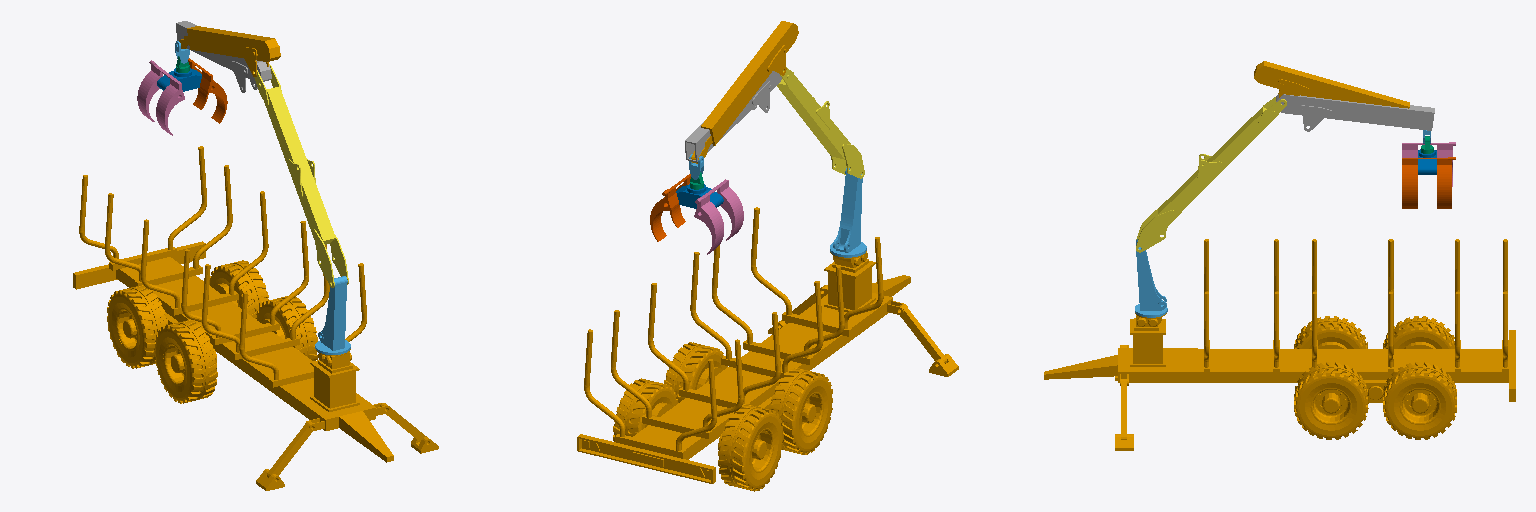
The robot description file, URDF, robot "Forwarder":
<?xml version="1.0" ?>
<robot name="Forwarder">

<material name="silver">
  <color rgba="0.700 0.700 0.700 1.000"/>
</material>

<link name="base_link">
  <inertial>
    <origin xyz="-0.003908224452763367 0.9506037251304481 0.7021763882249904" rpy="0 0 0"/>
    <mass value="25822.65720552091"/>
    <inertia ixx="68520.3010478053" iyy="14442.085932296157" izz="76765.07340755759" ixy="16.407438650892203" iyz="2841.6614017961874" ixz="-4.022357417862196"/>
  </inertial>
  <visual>
    <origin xyz="0 0 0" rpy="0 0 0"/>
    <geometry>
      <mesh filename="meshes/base_link.stl" scale="0.001 0.001 0.001"/>
    </geometry>
    <material name="silver"/>
    <material/>
  </visual>
  <collision concave='no'>
    <origin xyz="0 0 0" rpy="0 0 0"/>
    <geometry>
      <mesh filename="meshes/base_link_collision_vhacd.obj" scale="0.001 0.001 0.001"/>
    </geometry>
  </collision>
</link>

<link name="cranePillar1">
  <inertial>
    <origin xyz="3.497467832070701e-07 -0.0698455421799471 0.40873602648964047" rpy="0 0 0"/>
    <mass value="460.1534968092927"/>
    <inertia ixx="59.03278028466866" iyy="56.713124294482895" izz="7.345476497081563" ixy="-1.4077627952246985e-13" iyz="8.862009230487274" ixz="8.895106873296754e-13"/>
  </inertial>
  <visual>
    <origin xyz="0.002853 1.980877 -1.765904" rpy="0 0 0"/>
    <geometry>
      <mesh filename="meshes/cranePillar1.stl" scale="0.001 0.001 0.001"/>
    </geometry>
    <material name="silver"/>
    <material/>
  </visual>
  <collision>
    <origin xyz="0.002853 1.980877 -1.765904" rpy="0 0 0"/>
    <geometry>
      <mesh filename="meshes/cranePillar1.stl" scale="0.001 0.001 0.001"/>
    </geometry>
  </collision>
</link>

<link name="grappleHook1">
  <inertial>
    <origin xyz="3.49746752300803e-07 -0.060077954564890845 -0.11011981671949034" rpy="0 0 0"/>
    <mass value="33.99158446471375"/>
    <inertia ixx="0.207250395142637" iyy="0.2222404776367739" izz="0.1330857120570954" ixy="-1.3933298959045715e-14" iyz="-0.016261710099911397" ixz="1.3322676295501878e-14"/>
  </inertial>
  <visual>
    <origin xyz="0.002853 -3.944112 -4.490445" rpy="0 0 0"/>
    <geometry>
      <mesh filename="meshes/grappleHook1.stl" scale="0.001 0.001 0.001"/>
    </geometry>
    <material name="silver"/>
    <material/>
  </visual>
  <collision>
    <origin xyz="0.002853 -3.944112 -4.490445" rpy="0 0 0"/>
    <geometry>
      <mesh filename="meshes/grappleHook1.stl" scale="0.001 0.001 0.001"/>
    </geometry>
  </collision>
</link>

<link name="craneArm1">
  <inertial>
    <origin xyz="0.1100003610841465 1.3042152418009825 1.076770916885395" rpy="0 0 0"/>
    <mass value="498.213131651919"/>
    <inertia ixx="384.1248311033414" iyy="150.28888523464684" izz="242.08512014030032" ixy="2.498294123132183e-06" iyz="-182.83786745271618" ixz="3.087384713218455e-06"/>
  </inertial>
  <visual>
    <origin xyz="0.112853 2.155476 -2.865968" rpy="0 0 0"/>
    <geometry>
      <mesh filename="meshes/craneArm1.stl" scale="0.001 0.001 0.001"/>
    </geometry>
    <material name="silver"/>
    <material/>
  </visual>
  <collision>
    <origin xyz="0.112853 2.155476 -2.865968" rpy="0 0 0"/>
    <geometry>
      <mesh filename="meshes/craneArm1.stl" scale="0.001 0.001 0.001"/>
    </geometry>
  </collision>
</link>

<link name="grappleBody1">
  <inertial>
    <origin xyz="-0.004618843729018784 -0.02481161390733444 -0.14041374993199973" rpy="0 0 0"/>
    <mass value="65.77548879718992"/>
    <inertia ixx="1.4492199693208931" iyy="3.4056982852409874" izz="3.8805642743152475" ixy="-0.0016485057766530975" iyz="0.08661492179317065" ixz="-0.009329223566808764"/>
  </inertial>
  <visual>
    <origin xyz="0.002853 -3.867311 -4.285686" rpy="0 0 0"/>
    <geometry>
      <mesh filename="meshes/grappleBody1.stl" scale="0.001 0.001 0.001"/>
    </geometry>
    <material name="silver"/>
    <material/>
  </visual>
  <collision>
    <origin xyz="0.002853 -3.867311 -4.285686" rpy="0 0 0"/>
    <geometry>
      <mesh filename="meshes/grappleBody1.stl" scale="0.001 0.001 0.001"/>
    </geometry>
  </collision>
</link>

<link name="grappleL1">
  <inertial>
    <origin xyz="0.10267709197958164 -0.1612844268661484 -0.07174232510580492" rpy="0 0 0"/>
    <mass value="252.06590264464234"/>
    <inertia ixx="26.418413918632723" iyy="9.205817174658478" izz="21.667254974598563" ixy="0.6060925696314143" iyz="1.9775267486088524" ixz="2.832512755512937"/>
  </inertial>
  <visual>
    <origin xyz="-0.277147 -3.984785 -4.088466" rpy="0 0 0"/>
    <geometry>
      <mesh filename="meshes/grappleL1.stl" scale="0.001 0.001 0.001"/>
    </geometry>
    <material name="silver"/>
    <material/>
  </visual>
  <collision concave="no">
    <origin xyz="-0.277147 -3.984785 -4.088466" rpy="0 0 0"/>
    <geometry>
      <mesh filename="meshes/grappleL1.stl" scale="0.001 0.001 0.001"/>
    </geometry>
  </collision>
</link>

<link name="grappleR1">
  <inertial>
    <origin xyz="-0.1029958535597646 -0.1638516209519647 -0.08057415801397028" rpy="0 0 0"/>
    <mass value="307.2406805414771"/>
    <inertia ixx="34.492324947317684" iyy="12.852460841249922" izz="27.330293925175283" ixy="-0.7563014736331866" iyz="2.3652520205505425" ixz="-3.74754902752386"/>
  </inertial>
  <visual>
    <origin xyz="0.282853 -3.984785 -4.088466" rpy="0 0 0"/>
    <geometry>
      <mesh filename="meshes/grappleR1.stl" scale="0.001 0.001 0.001"/>
    </geometry>
    <material name="silver"/>
    <material/>
  </visual>
  <collision concave="no">
    <origin xyz="0.282853 -3.984785 -4.088466" rpy="0 0 0"/>
    <geometry>
      <mesh filename="meshes/grappleR1.stl" scale="0.001 0.001 0.001"/>
    </geometry>
  </collision>
</link>

<link name="extension_arm1">
  <inertial>
    <origin xyz="-0.10999965025326676 0.6868688916027177 0.24801104145967034" rpy="0 0 0"/>
    <mass value="385.82757219552406"/>
    <inertia ixx="204.13527677232196" iyy="10.295244215032653" izz="198.03227518544657" ixy="-2.0761170560490427e-13" iyz="22.072587976147133" ixz="7.105427357601002e-15"/>
  </inertial>
  <visual>
    <origin xyz="-0.107147 -0.491595 -4.956013" rpy="0 0 0"/>
    <geometry>
      <mesh filename="meshes/extension_arm1.stl" scale="0.001 0.001 0.001"/>
    </geometry>
    <material name="silver"/>
    <material/>
  </visual>
  <collision>
    <origin xyz="-0.107147 -0.491595 -4.956013" rpy="0 0 0"/>
    <geometry>
      <mesh filename="meshes/extension_arm1.stl" scale="0.001 0.001 0.001"/>
    </geometry>
  </collision>
</link>

<link name="extension1">
  <inertial>
    <origin xyz="0.03000035007224677 0.7468894249667883 0.13493574423119536" rpy="0 0 0"/>
    <mass value="250.5548388854696"/>
    <inertia ixx="104.64045007897676" iyy="5.1341466361909625" izz="100.75155381084801" ixy="1.295901874698302e-08" iyz="15.72724636338853" ixz="-2.5546986748281597e-09"/>
  </inertial>
  <visual>
    <origin xyz="0.032853 -2.031233 -4.858766" rpy="0 0 0"/>
    <geometry>
      <mesh filename="meshes/extension1.stl" scale="0.001 0.001 0.001"/>
    </geometry>
    <material name="silver"/>
    <material/>
  </visual>
  <collision>
    <origin xyz="0.032853 -2.031233 -4.858766" rpy="0 0 0"/>
    <geometry>
      <mesh filename="meshes/extension1.stl" scale="0.001 0.001 0.001"/>
    </geometry>
  </collision>
</link>

<link name="intermediateHookJnt1">
  <inertial>
    <origin xyz="0.06000034974674894 -0.021158436674920456 -0.11973704384593109" rpy="0 0 0"/>
    <mass value="19.458555791807512"/>
    <inertia ixx="0.18389551539803506" iyy="0.20588193950192135" izz="0.09684901559688797" ixy="-3.425038030968608e-14" iyz="-0.019887443594768683" ixz="-1.2823075934420558e-14"/>
  </inertial>
  <visual>
    <origin xyz="0.062853 -3.945173 -4.72632" rpy="0 0 0"/>
    <geometry>
      <mesh filename="meshes/intermediateHookJnt1.stl" scale="0.001 0.001 0.001"/>
    </geometry>
    <material name="silver"/>
    <material/>
  </visual>
  <collision>
    <origin xyz="0.062853 -3.945173 -4.72632" rpy="0 0 0"/>
    <geometry>
      <mesh filename="meshes/intermediateHookJnt1.stl" scale="0.001 0.001 0.001"/>
    </geometry>
  </collision>
</link>

<joint name="Revolute_1" type="continuous">
  <origin xyz="-0.002853 -1.980877 1.765904" rpy="0 0 0"/>
  <parent link="base_link"/>
  <child link="cranePillar1"/>
  <axis xyz="-0.0 0.000365 1.0"/>
  <limit lower="-1.54" upper="1.54"/>
</joint>
<transmission name="Revolute_1_tran">
  <type>transmission_interface/SimpleTransmission</type>
  <joint name="Revolute_1">
    <hardwareInterface>PositionJointInterface</hardwareInterface>
  </joint>
  <actuator name="Revolute_1_actr">
    <hardwareInterface>PositionJointInterface</hardwareInterface>
    <mechanicalReduction>1</mechanicalReduction>
  </actuator>
</transmission>

<joint name="Revolute_25" type="continuous">
  <origin xyz="-0.11 -0.174599 1.100064" rpy="0 0 0"/>
  <parent link="cranePillar1"/>
  <child link="craneArm1"/>
  <axis xyz="1.0 -0.0 0.0"/>
  <limit lower="-0.43" upper="0.33"/>
</joint>
<transmission name="Revolute_25_tran">
  <type>transmission_interface/SimpleTransmission</type>
  <joint name="Revolute_25">
    <hardwareInterface>PositionJointInterface</hardwareInterface>
  </joint>
  <actuator name="Revolute_25_actr">
    <hardwareInterface>PositionJointInterface</hardwareInterface>
    <mechanicalReduction>1</mechanicalReduction>
  </actuator>
</transmission>

<joint name="Revolute_36" type="continuous">
  <origin xyz="0.22 2.647071 2.090045" rpy="0 0 0"/>
  <parent link="craneArm1"/>
  <child link="extension_arm1"/>
  <axis xyz="1.0 -0.0 0.0"/>
  <limit lower="-1.54" upper="0.43"/>
</joint>
<transmission name="Revolute_36_tran">
  <type>transmission_interface/SimpleTransmission</type>
  <joint name="Revolute_36">
    <hardwareInterface>PositionJointInterface</hardwareInterface>
  </joint>
  <actuator name="Revolute_36_actr">
    <hardwareInterface>PositionJointInterface</hardwareInterface>
    <mechanicalReduction>1</mechanicalReduction>
  </actuator>
</transmission>

<joint name="Slider_37" type="prismatic">
  <origin xyz="-0.14 1.539638 -0.097247" rpy="0 0 0"/>
  <parent link="extension_arm1"/>
  <child link="extension1"/>
  <axis xyz="-0.0 -0.991429 0.130644"/>
  <limit upper="1" lower="-.8"/>
</joint>
<transmission name="Slider_37_tran">
  <type>transmission_interface/SimpleTransmission</type>
  <joint name="Slider_37">
    <hardwareInterface>PositionJointInterface</hardwareInterface>
  </joint>
  <actuator name="Slider_37_actr">
    <hardwareInterface>PositionJointInterface</hardwareInterface>
    <mechanicalReduction>1</mechanicalReduction>
  </actuator>
</transmission>

<joint name="Revolute_38" type="revolute">
  <origin xyz="-0.03 1.91394 -0.132446" rpy="0 0 0"/>
  <parent link="extension1"/>
  <child link="intermediateHookJnt1"/>
  <axis xyz="1.0 -0.0 0.0"/>
  <limit upper=".8" lower="-.8" effort="1" velocity="5"/>
  <dynamics friction=".6" damping=".6"/>
</joint>
<transmission name="Revolute_38_tran">
  <type>transmission_interface/SimpleTransmission</type>
  <joint name="Revolute_38">
    <hardwareInterface>PositionJointInterface</hardwareInterface>
  </joint>
  <actuator name="Revolute_38_actr">
    <hardwareInterface>PositionJointInterface</hardwareInterface>
    <mechanicalReduction>1</mechanicalReduction>
  </actuator>
</transmission>

<joint name="Revolute_16" type="revolute">
  <origin xyz="0.06 -0.001061 -0.235875" rpy="0 0 0"/>
  <parent link="intermediateHookJnt1"/>
  <child link="grappleHook1"/>
  <axis xyz="-0.0 -0.984744 0.174008"/>
  <limit upper=".3" lower="-.3" effort="1" velocity="5"/>
  <dynamics friction=".9" damping=".9"/>
</joint>
<transmission name="Revolute_16_tran">
  <type>transmission_interface/SimpleTransmission</type>
  <joint name="Revolute_16">
    <hardwareInterface>PositionJointInterface</hardwareInterface>
  </joint>
  <actuator name="Revolute_16_actr">
    <hardwareInterface>PositionJointInterface</hardwareInterface>
    <mechanicalReduction>1</mechanicalReduction>
  </actuator>
</transmission>

<joint name="Revolute_26" type="revolute">
  <origin xyz="0.0 -0.076801 -0.204759" rpy="0 0 0"/>
  <parent link="grappleHook1"/>
  <child link="grappleBody1"/>
  <axis xyz="0.0 -0.174008 -0.984744"/>
  <limit lower="0" upper="2"/>
</joint>
<transmission name="Revolute_26_tran">
  <type>transmission_interface/SimpleTransmission</type>
  <joint name="Revolute_26">
    <hardwareInterface>PositionJointInterface</hardwareInterface>
  </joint>
  <actuator name="Revolute_26_actr">
    <hardwareInterface>PositionJointInterface</hardwareInterface>
    <mechanicalReduction>1</mechanicalReduction>
  </actuator>
</transmission>

<joint name="Revolute_30" type="continuous">
  <origin xyz="0.28 0.117474 -0.19722" rpy="0 0 0"/>
  <parent link="grappleBody1"/>
  <child link="grappleL1"/>
  <axis xyz="-0.0 -0.984744 0.174008"/>
  <limit lower="-.6" upper=".6"/>
</joint>
<transmission name="Revolute_30_tran">
  <type>transmission_interface/SimpleTransmission</type>
  <joint name="Revolute_30">
    <hardwareInterface>PositionJointInterface</hardwareInterface>
  </joint>
  <actuator name="Revolute_30_actr">
    <hardwareInterface>PositionJointInterface</hardwareInterface>
    <mechanicalReduction>1</mechanicalReduction>
  </actuator>
</transmission>

<joint name="Revolute_31" type="continuous">
  <origin xyz="-0.28 0.117474 -0.19722" rpy="0 0 0"/>
  <parent link="grappleBody1"/>
  <child link="grappleR1"/>
  <axis xyz="-0.0 -0.984744 0.174008"/>
  <limit lower="-.6" upper=".6"/>
</joint>
<transmission name="Revolute_31_tran">
  <type>transmission_interface/SimpleTransmission</type>
  <joint name="Revolute_31">
    <hardwareInterface>PositionJointInterface</hardwareInterface>
  </joint>
  <actuator name="Revolute_31_actr">
    <hardwareInterface>PositionJointInterface</hardwareInterface>
    <mechanicalReduction>1</mechanicalReduction>
  </actuator>
</transmission>

</robot>

--- What the picture shows (computed from the rendered views, not written in the file) ---
3 views of the same robot in one strip: view 1: azimuth 30°, elevation 25°; view 2: azimuth 150°, elevation 25°; view 3: azimuth 270°, elevation 25° (orthographic).
Model Forwarder with 10 links and 9 joints (3 revolute, 5 continuous, 1 prismatic), rooted at base_link, posed every joint at zero.
Visible links, largest first — view 1: base_link, craneArm1, extension1, cranePillar1, grappleR1, extension_arm1, grappleL1, grappleBody1; view 2: base_link, extension1, craneArm1, cranePillar1, grappleR1, extension_arm1, grappleL1, grappleBody1; view 3: base_link, craneArm1, extension_arm1, extension1, grappleL1, cranePillar1, grappleR1.
Boxes of the visible links, left/top/right/bottom form: base_link: left=73, top=146, right=438, bottom=490; craneArm1: left=254, top=64, right=348, bottom=287; extension1: left=179, top=26, right=280, bottom=76; cranePillar1: left=315, top=276, right=350, bottom=354; grappleR1: left=137, top=60, right=184, bottom=135; extension_arm1: left=176, top=21, right=271, bottom=92; grappleL1: left=188, top=58, right=227, bottom=123; grappleBody1: left=157, top=68, right=201, bottom=91; base_link: left=577, top=207, right=958, bottom=491; extension1: left=691, top=21, right=798, bottom=163; craneArm1: left=777, top=67, right=864, bottom=178; cranePillar1: left=830, top=168, right=866, bottom=257; grappleR1: left=694, top=179, right=743, bottom=254; extension_arm1: left=685, top=71, right=781, bottom=162; grappleL1: left=650, top=174, right=690, bottom=241; grappleBody1: left=676, top=184, right=723, bottom=208; base_link: left=1044, top=239, right=1515, bottom=450; craneArm1: left=1136, top=97, right=1286, bottom=252; extension_arm1: left=1276, top=94, right=1434, bottom=131; extension1: left=1254, top=61, right=1409, bottom=108; grappleL1: left=1402, top=157, right=1455, bottom=208; cranePillar1: left=1135, top=239, right=1167, bottom=317; grappleR1: left=1402, top=142, right=1455, bottom=186.
Size in the robot's own frame: 2.93 by 7.41 by 6.04 metres.
10 mesh visuals loaded from 10 distinct referenced files (10 binary STL).